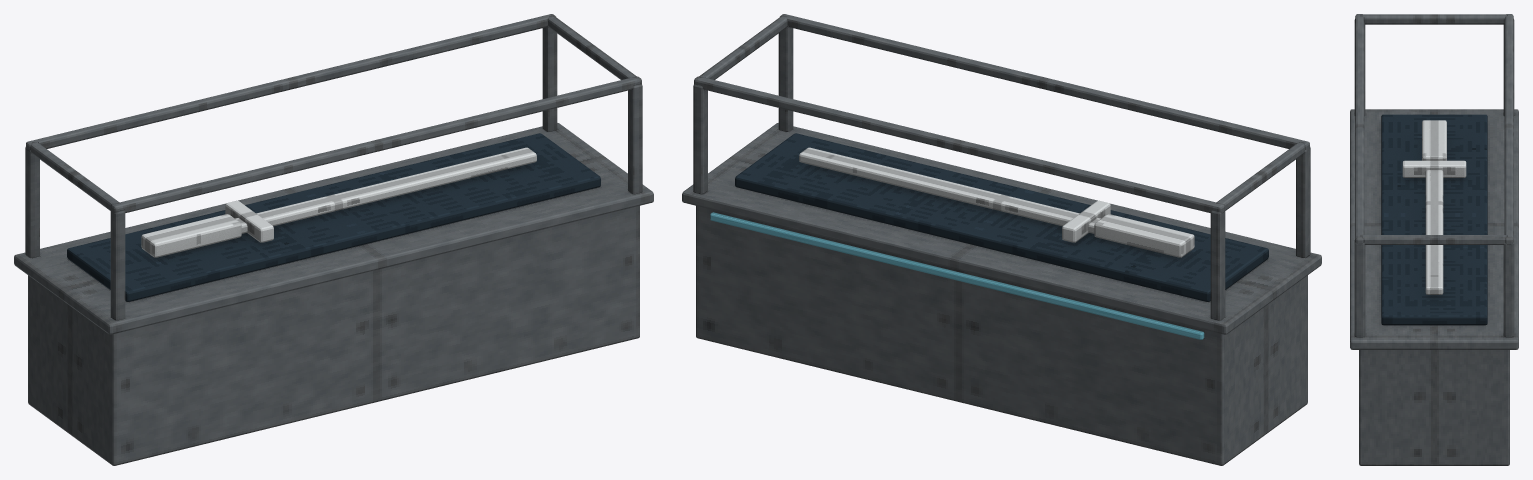
File: base_display_case_weapon.glb
The picture shows the model from 3 angles, left to right: view 1: azimuth 30°, elevation 25°; view 2: azimuth 150°, elevation 25°; view 3: azimuth 270°, elevation 25°; orthographic projection. The views are drawn at different scales.
Visible parts, largest first — view 1: base_display_case_weapon; view 2: base_display_case_weapon; view 3: base_display_case_weapon.
Part boxes in pixels (left/top/right/bottom): base_display_case_weapon: left=14, top=14, right=653, bottom=465; base_display_case_weapon: left=682, top=14, right=1321, bottom=465; base_display_case_weapon: left=1350, top=14, right=1518, bottom=465.
Size of the model in its own units: 3.1 by 1.42 by 0.95.
4 materials, 4 textured.
